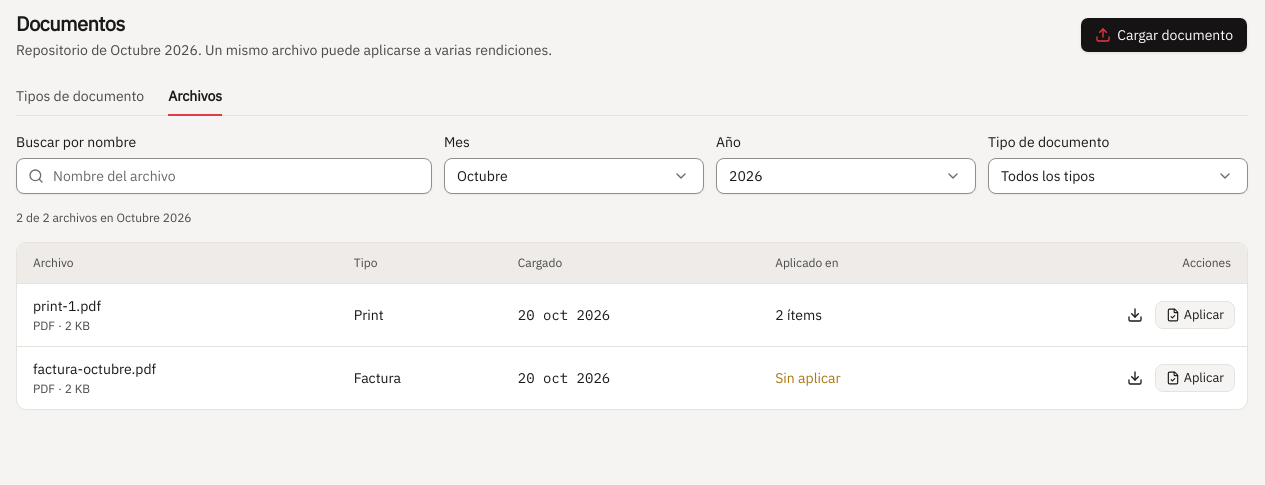
Test case: ArchivosPage: repositorio › si la descarga falla, lo avisa
Expected: the button "print-1.pdf" is shown, [33, 296, 101, 316]
Click the button named "Descargar print-1.pdf" at (1135, 315), box [1121, 301, 1149, 329]
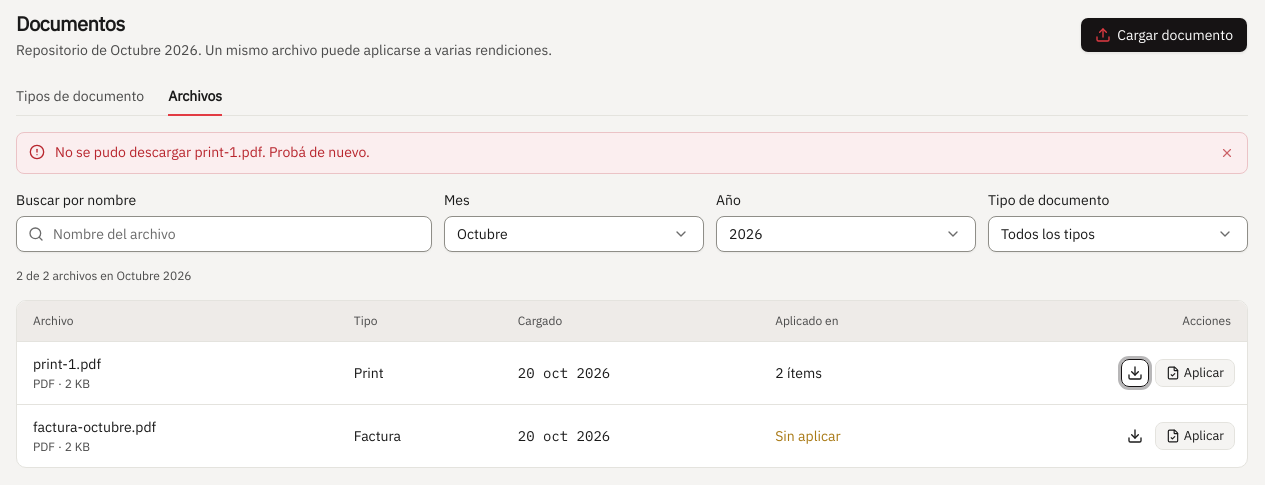
Result: the text "No se pudo descargar print-1.pdf. Probá de nuevo." is shown at [55, 143, 370, 161]
